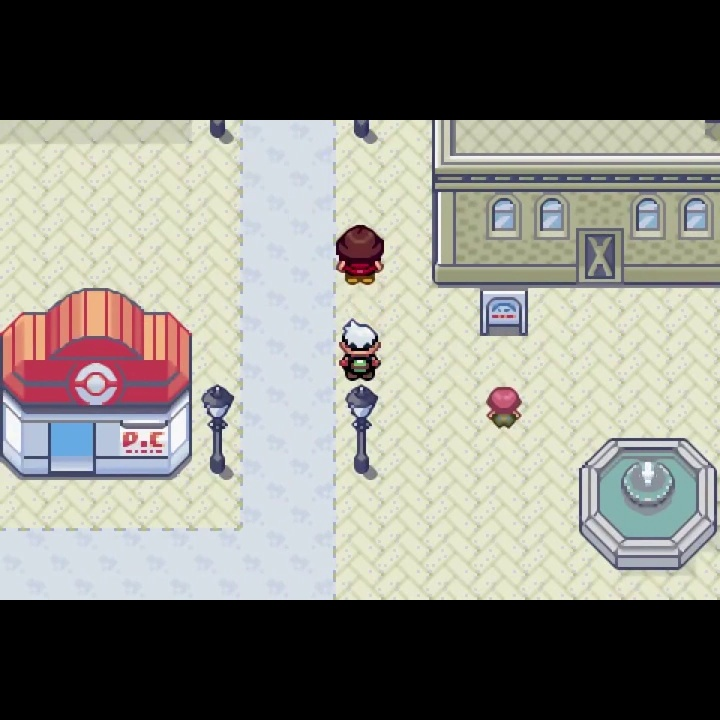agent: (335, 318, 386, 384)
house: (429, 118, 720, 290)
npc: (331, 221, 387, 286), (484, 384, 524, 433)
pokecen: (1, 285, 195, 481)
